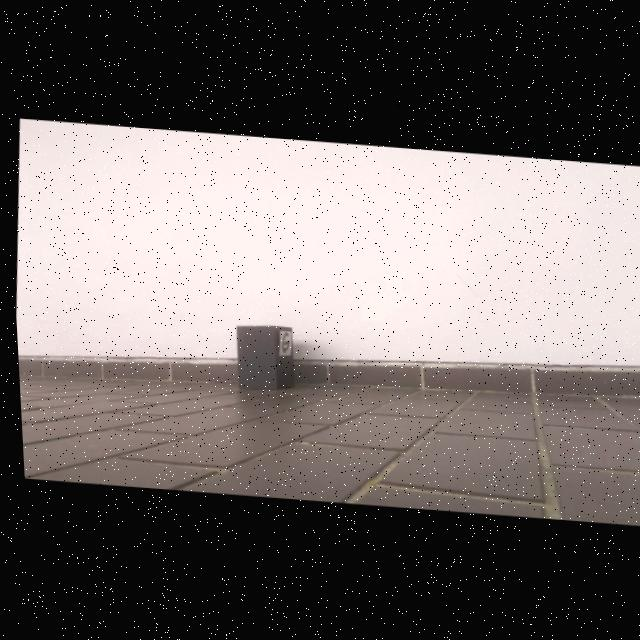G: (278, 332, 285, 351)
